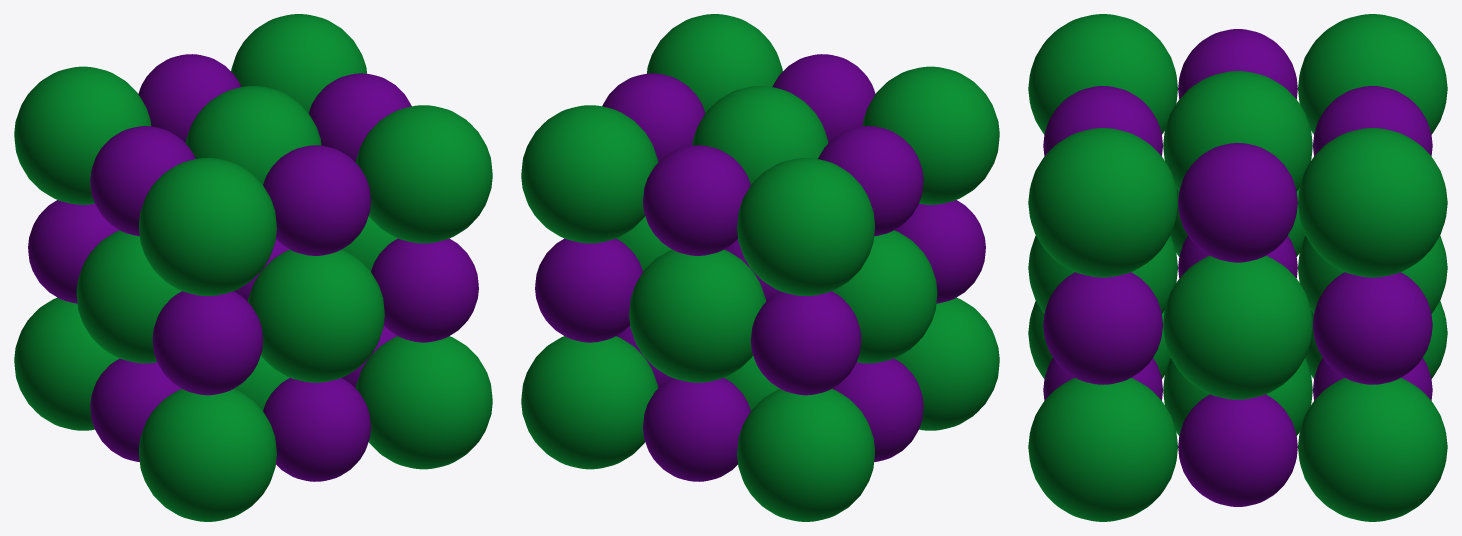
The model's file is asset.glb.
3 views of the same model, side by side, from view 1: azimuth 30°, elevation 25°; view 2: azimuth 150°, elevation 25°; view 3: azimuth 270°, elevation 25° (orthographic). The views are drawn at different scales.
Parts seen in each view (by area): view 1: Esfera UV.017_17, Esfera UV.026_26, Esfera UV.016_16, Esfera UV.020_20, Esfera UV.006_6, Esfera UV.018_18, Esfera UV.010_10, Esfera UV.012_12, Esfera UV.009_9, Esfera UV.019_19, Esfera UV.024_24, Esfera UV.003_3 (+9 smaller); view 2: Esfera UV.018_18, Esfera UV.024_24, Esfera UV.015_15, Esfera UV.022_22, Esfera UV.005_5, Esfera UV.017_17, Esfera UV.007_7, Esfera UV.011_11, Esfera UV.008_8, Esfera UV.023_23, Esfera UV.026_26, Esfera UV.003_3 (+9 smaller); view 3: Esfera UV.015_15, Esfera UV.016_16, Esfera UV.020_20, Esfera UV.022_22, Esfera UV.002_2, Esfera UV.013_13, Esfera UV.017_17, Esfera UV.018_18, Esfera UV.001_1, Esfera UV.021_21, Esfera UV.008_8, Esfera UV.009_9 (+12 smaller).
Part boxes in pixels (bbox=[...]): Esfera UV.017_17: bbox=[139, 158, 276, 295]; Esfera UV.026_26: bbox=[139, 389, 276, 521]; Esfera UV.016_16: bbox=[355, 105, 492, 243]; Esfera UV.020_20: bbox=[355, 336, 492, 469]; Esfera UV.006_6: bbox=[248, 249, 384, 382]; Esfera UV.018_18: bbox=[14, 66, 151, 204]; Esfera UV.010_10: bbox=[152, 291, 262, 395]; Esfera UV.012_12: bbox=[263, 145, 370, 255]; Esfera UV.009_9: bbox=[371, 238, 478, 342]; Esfera UV.019_19: bbox=[263, 378, 370, 481]; Esfera UV.024_24: bbox=[14, 297, 119, 430]; Esfera UV.003_3: bbox=[76, 230, 181, 363]; Esfera UV.018_18: bbox=[737, 158, 874, 295]; Esfera UV.024_24: bbox=[737, 389, 874, 521]; Esfera UV.015_15: bbox=[521, 105, 658, 243]; Esfera UV.022_22: bbox=[521, 336, 658, 469]; Esfera UV.005_5: bbox=[629, 249, 765, 382]; Esfera UV.017_17: bbox=[862, 66, 999, 204]; Esfera UV.007_7: bbox=[751, 291, 861, 395]; Esfera UV.011_11: bbox=[643, 145, 750, 255]; Esfera UV.008_8: bbox=[535, 238, 642, 342]; Esfera UV.023_23: bbox=[643, 378, 750, 481]; Esfera UV.026_26: bbox=[894, 297, 999, 430]; Esfera UV.003_3: bbox=[832, 230, 937, 363]; Esfera UV.015_15: bbox=[1298, 128, 1447, 277]; Esfera UV.016_16: bbox=[1028, 128, 1177, 277]; Esfera UV.020_20: bbox=[1028, 378, 1177, 521]; Esfera UV.022_22: bbox=[1298, 378, 1447, 521]; Esfera UV.002_2: bbox=[1163, 255, 1312, 399]; Esfera UV.013_13: bbox=[1178, 143, 1297, 262]; Esfera UV.017_17: bbox=[1028, 14, 1177, 134]; Esfera UV.018_18: bbox=[1298, 14, 1447, 134]; Esfera UV.001_1: bbox=[1163, 71, 1312, 191]; Esfera UV.021_21: bbox=[1178, 394, 1297, 506]; Esfera UV.008_8: bbox=[1313, 272, 1432, 384]; Esfera UV.009_9: bbox=[1043, 272, 1162, 384].
Size of the model in its own units: 5.6 by 5.6 by 5.6.
